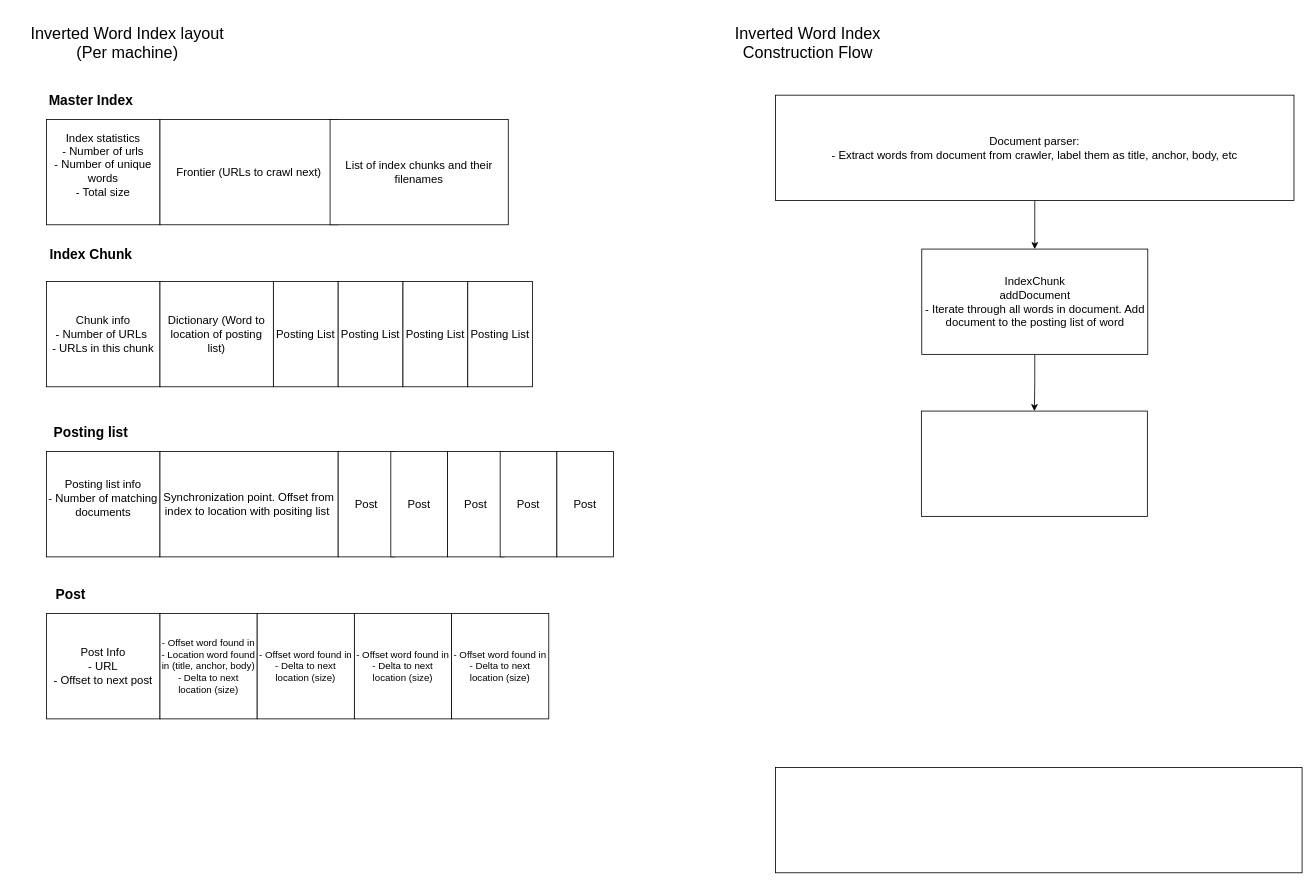
Some shapes in this 1316 by 887 pixel diagram are drawn without their labels. The shapes that lost their labels are listed below. From the top down, each one's box as (x1, y1, x2, y2) in pixels, then its label:
(921, 410, 1147, 516): IndexChunk addDocument
(775, 767, 1302, 873): Serializer: Serialize everything into a contiguous buffer Write into a file
